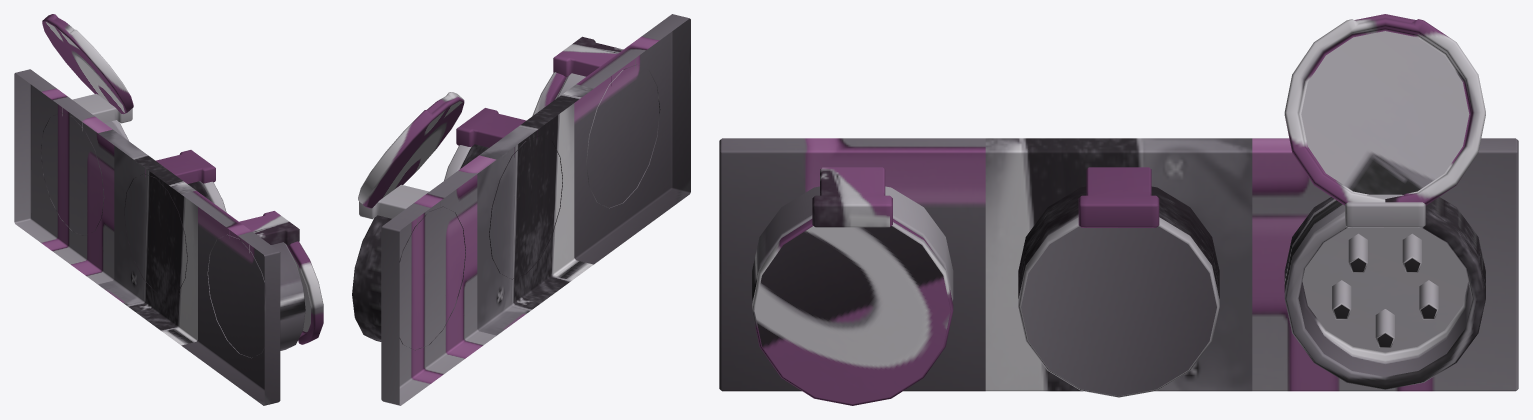
The model's file is SM_EDSWallSocket3.fbx.
The picture shows the model from 3 angles, left to right: view 1: azimuth 30°, elevation 25°; view 2: azimuth 150°, elevation 25°; view 3: azimuth 270°, elevation 25°; orthographic projection. The views are drawn at different scales.
Visible parts, largest first — view 1: Wall Socket 3; view 2: Wall Socket 3; view 3: Wall Socket 3, Wall Socket pins.
Boxes of the visible parts, x1,y1,x2,y2 form: Wall Socket 3: (14, 14, 323, 405); Wall Socket 3: (352, 14, 690, 405); Wall Socket 3: (719, 14, 1518, 405); Wall Socket pins: (1332, 233, 1438, 347).
Bounding box in the file's own units: 5.19 × 29.33 × 14.87.
